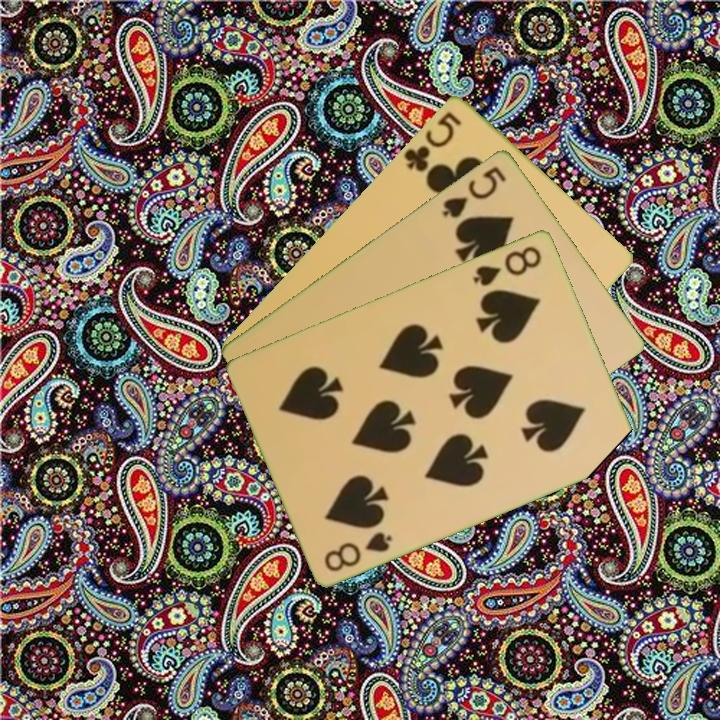5c: (400, 107, 464, 177)
5s: (439, 162, 509, 221)
8s: (469, 241, 545, 289), (321, 527, 395, 575)
